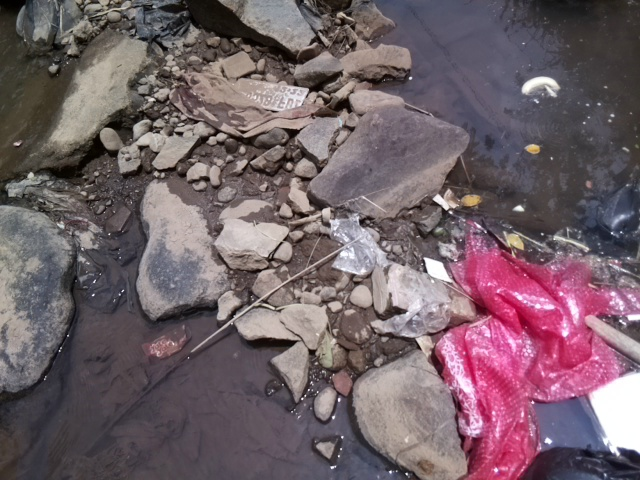Sampah_Plastik: (443, 231, 625, 480), (326, 212, 389, 278), (371, 298, 454, 338), (594, 183, 640, 241), (130, 1, 190, 38)
